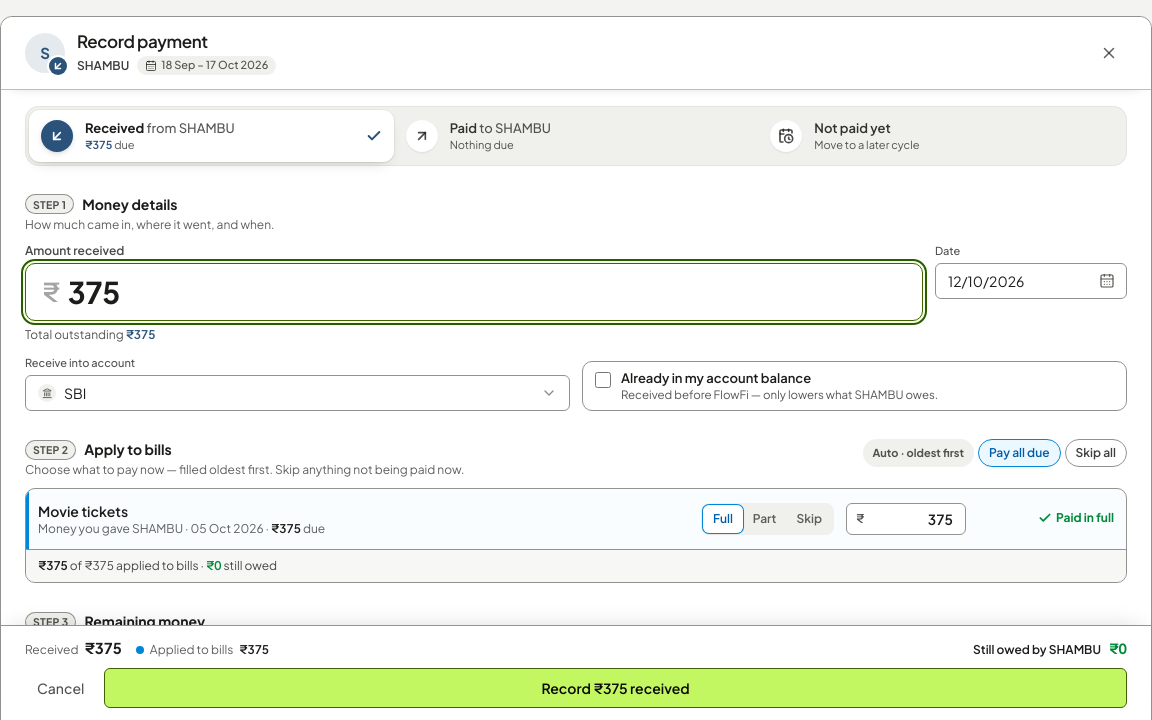
Test: No money received — postpone (case 1, 7, 8, 9, 12) › a conflict (another tab moved it) is shown; the panel stays open and nothing is recorded
The image size is (1152, 720).
Click the radio button with aria-label "not paid yet — postpone collection" at (786, 136), box x1=758 y1=110 x2=1123 y2=162
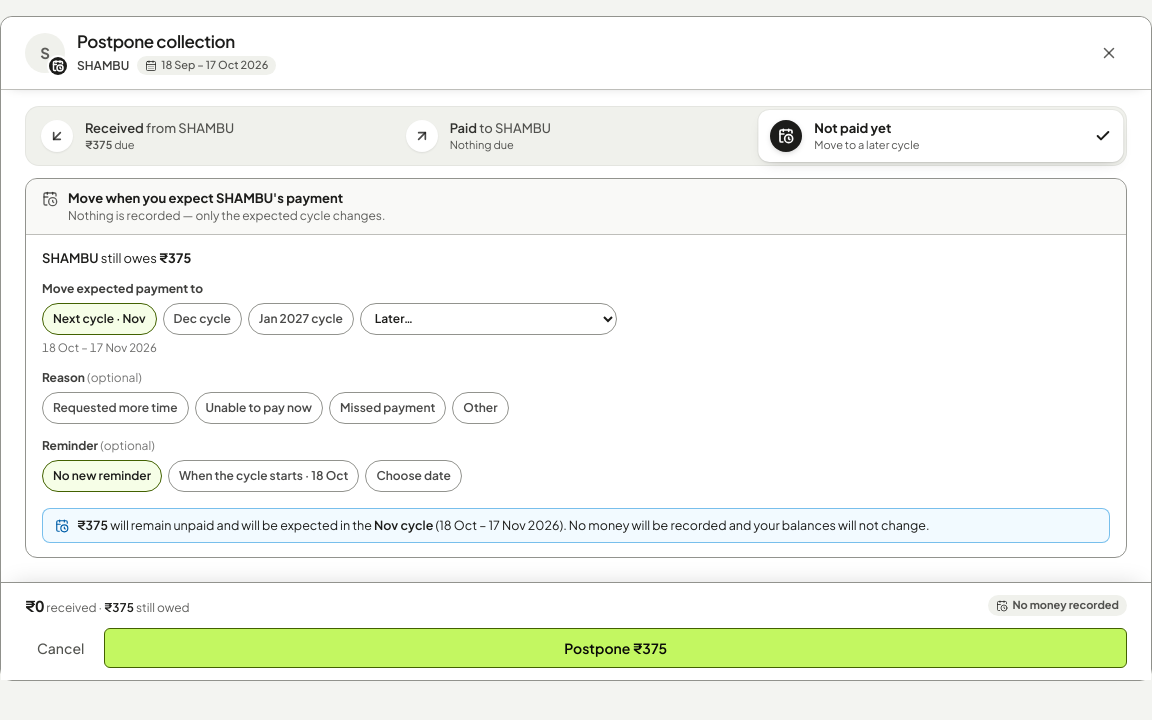
Click the button "Postpone ₹375" at (616, 648), box x1=104 y1=628 x2=1127 y2=668
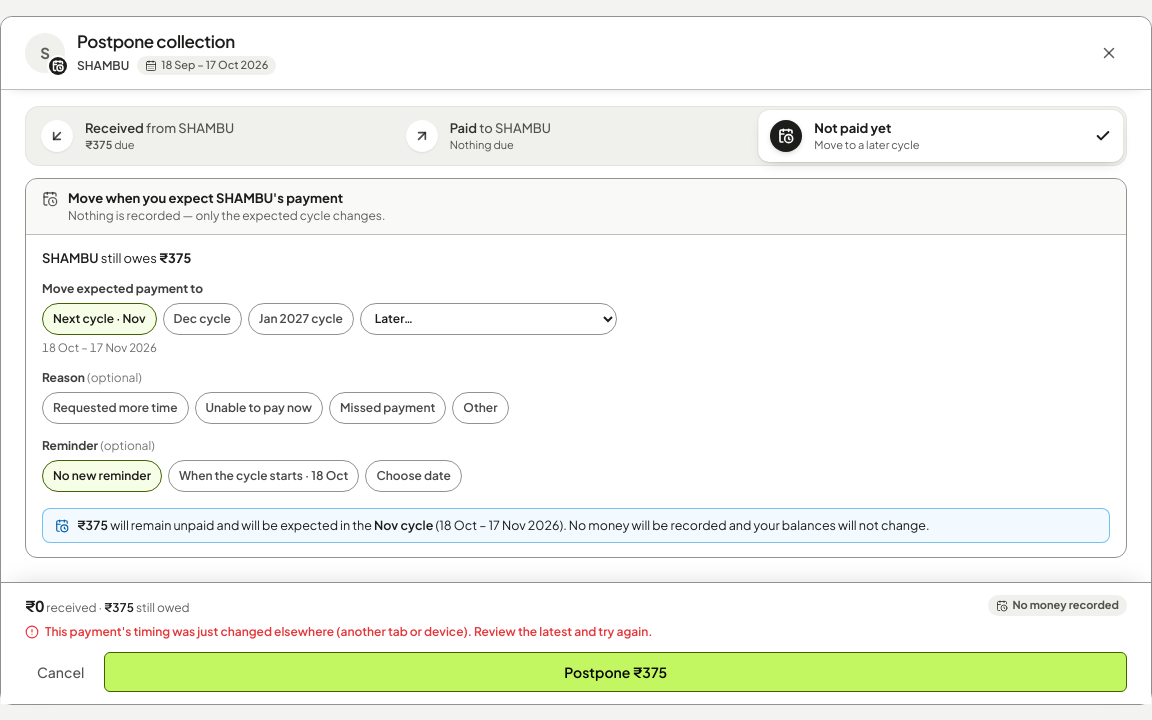
Expected: the button "Postpone ₹375" is shown, x1=104 y1=652 x2=1127 y2=692
Expected: the message shows "This payment's timing was just changed elsewhere (another tab or device). Review the latest and try again.", x1=45 y1=624 x2=652 y2=639
